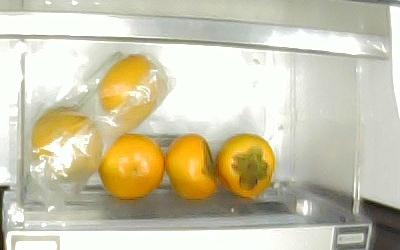persimmon: (99, 132, 164, 200), (215, 134, 276, 199), (166, 134, 221, 201)
persimmon_vinyl: (31, 109, 104, 181), (99, 55, 160, 122)
